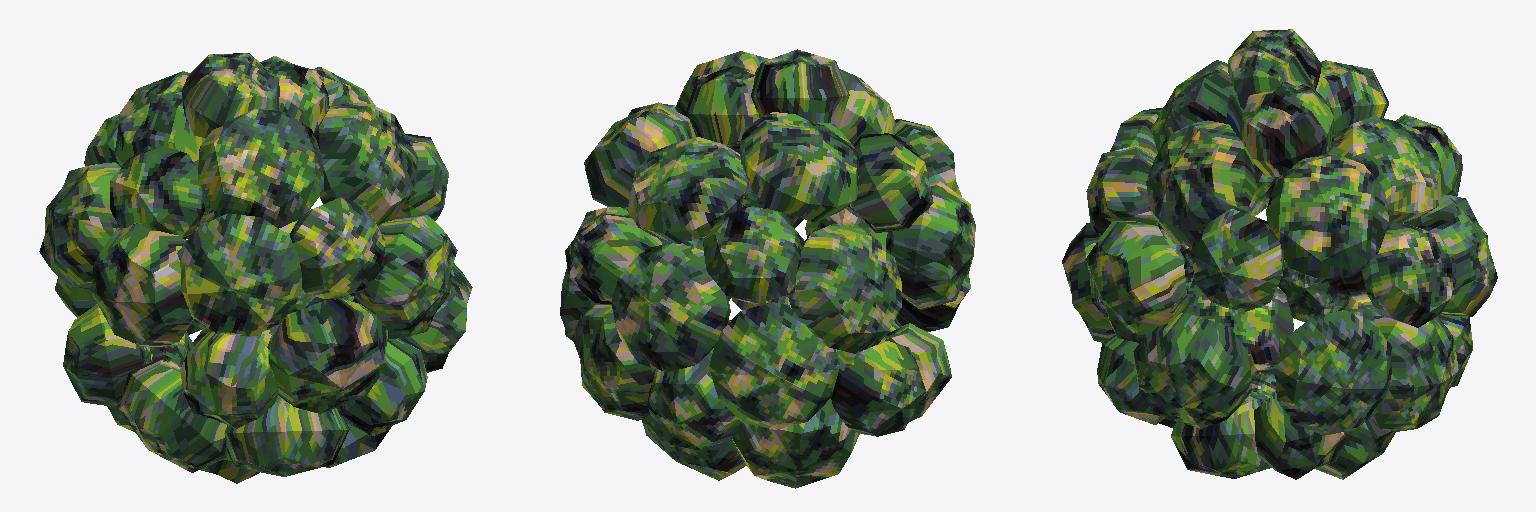
3 views of the same model, side by side, from view 1: azimuth 30°, elevation 25°; view 2: azimuth 150°, elevation 25°; view 3: azimuth 270°, elevation 25° (orthographic).
Visible parts, largest first — view 1: bush; view 2: bush; view 3: bush.
Part boxes in pixels (bbox=[...]): bush: bbox=[39, 53, 472, 483]; bush: bbox=[560, 49, 975, 488]; bush: bbox=[1062, 29, 1497, 479].
Bounding box in the file's own units: 0.9737 × 1.11 × 1.06.
Materials: 1 (1 with a texture image).